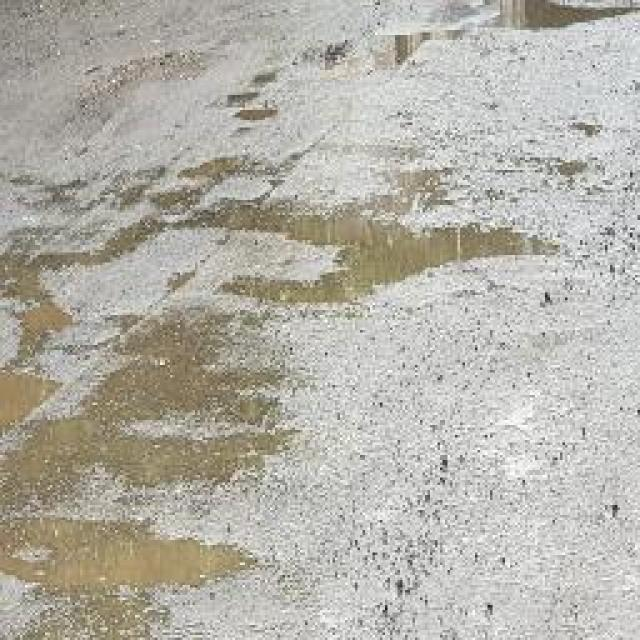puddle: (300, 213, 570, 310), (1, 522, 257, 597)
